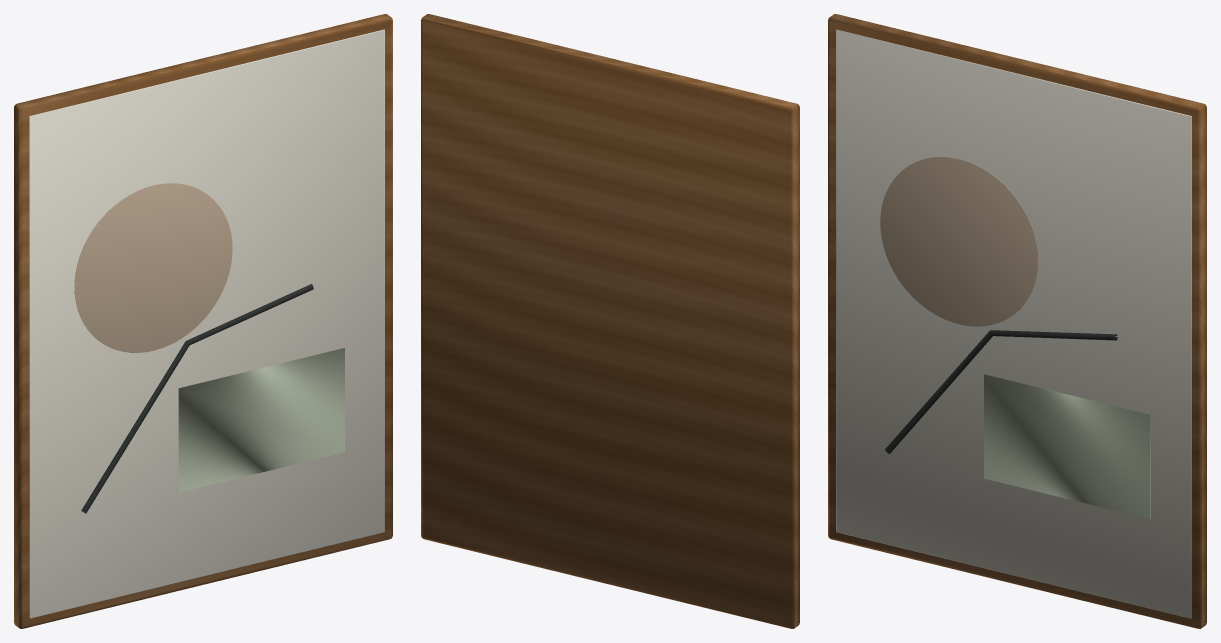
Rendered from wall-art.glb.
3 renders of one model, left to right at view 1: azimuth 30°, elevation 25°; view 2: azimuth 150°, elevation 25°; view 3: azimuth 330°, elevation 25°, orthographic.
Visible parts, largest first — view 1: wall-art-mesh; view 2: wall-art-mesh; view 3: wall-art-mesh.
Part boxes in pixels (x1,y1,x2,y2): wall-art-mesh: (14, 14, 392, 628); wall-art-mesh: (421, 14, 799, 628); wall-art-mesh: (828, 14, 1206, 628).
Size of the model in its own units: 0.9 by 1.2 by 0.04.
5 materials, 1 textured.
